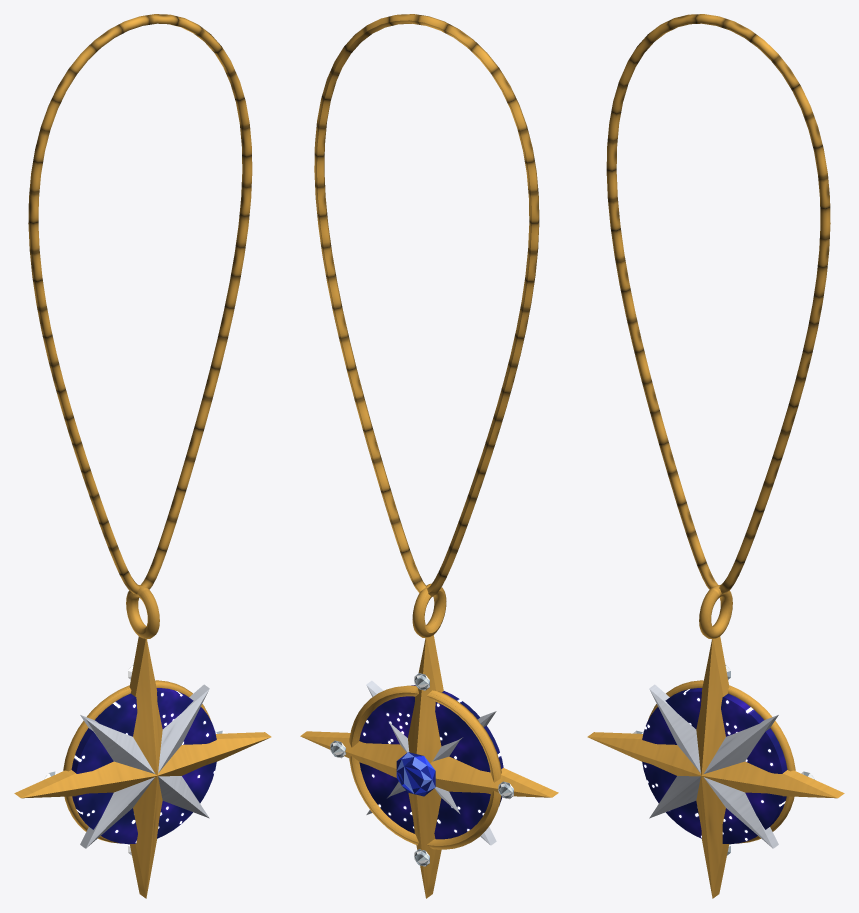
File: CelestialStarAmulet.glb
3 renders of one model, left to right at view 1: azimuth 30°, elevation 25°; view 2: azimuth 150°, elevation 25°; view 3: azimuth 330°, elevation 25°, orthographic.
Parts seen in each view (by area): view 1: CelestialStarAmulet; view 2: CelestialStarAmulet; view 3: CelestialStarAmulet.
Part boxes in pixels (x1,y1,x2,y2): CelestialStarAmulet: (14, 14, 271, 898); CelestialStarAmulet: (300, 14, 558, 898); CelestialStarAmulet: (587, 14, 844, 898).
Bounding box in the file's own units: 0.6 × 2.01 × 0.1307.
Materials: 1 (1 with a texture image).
